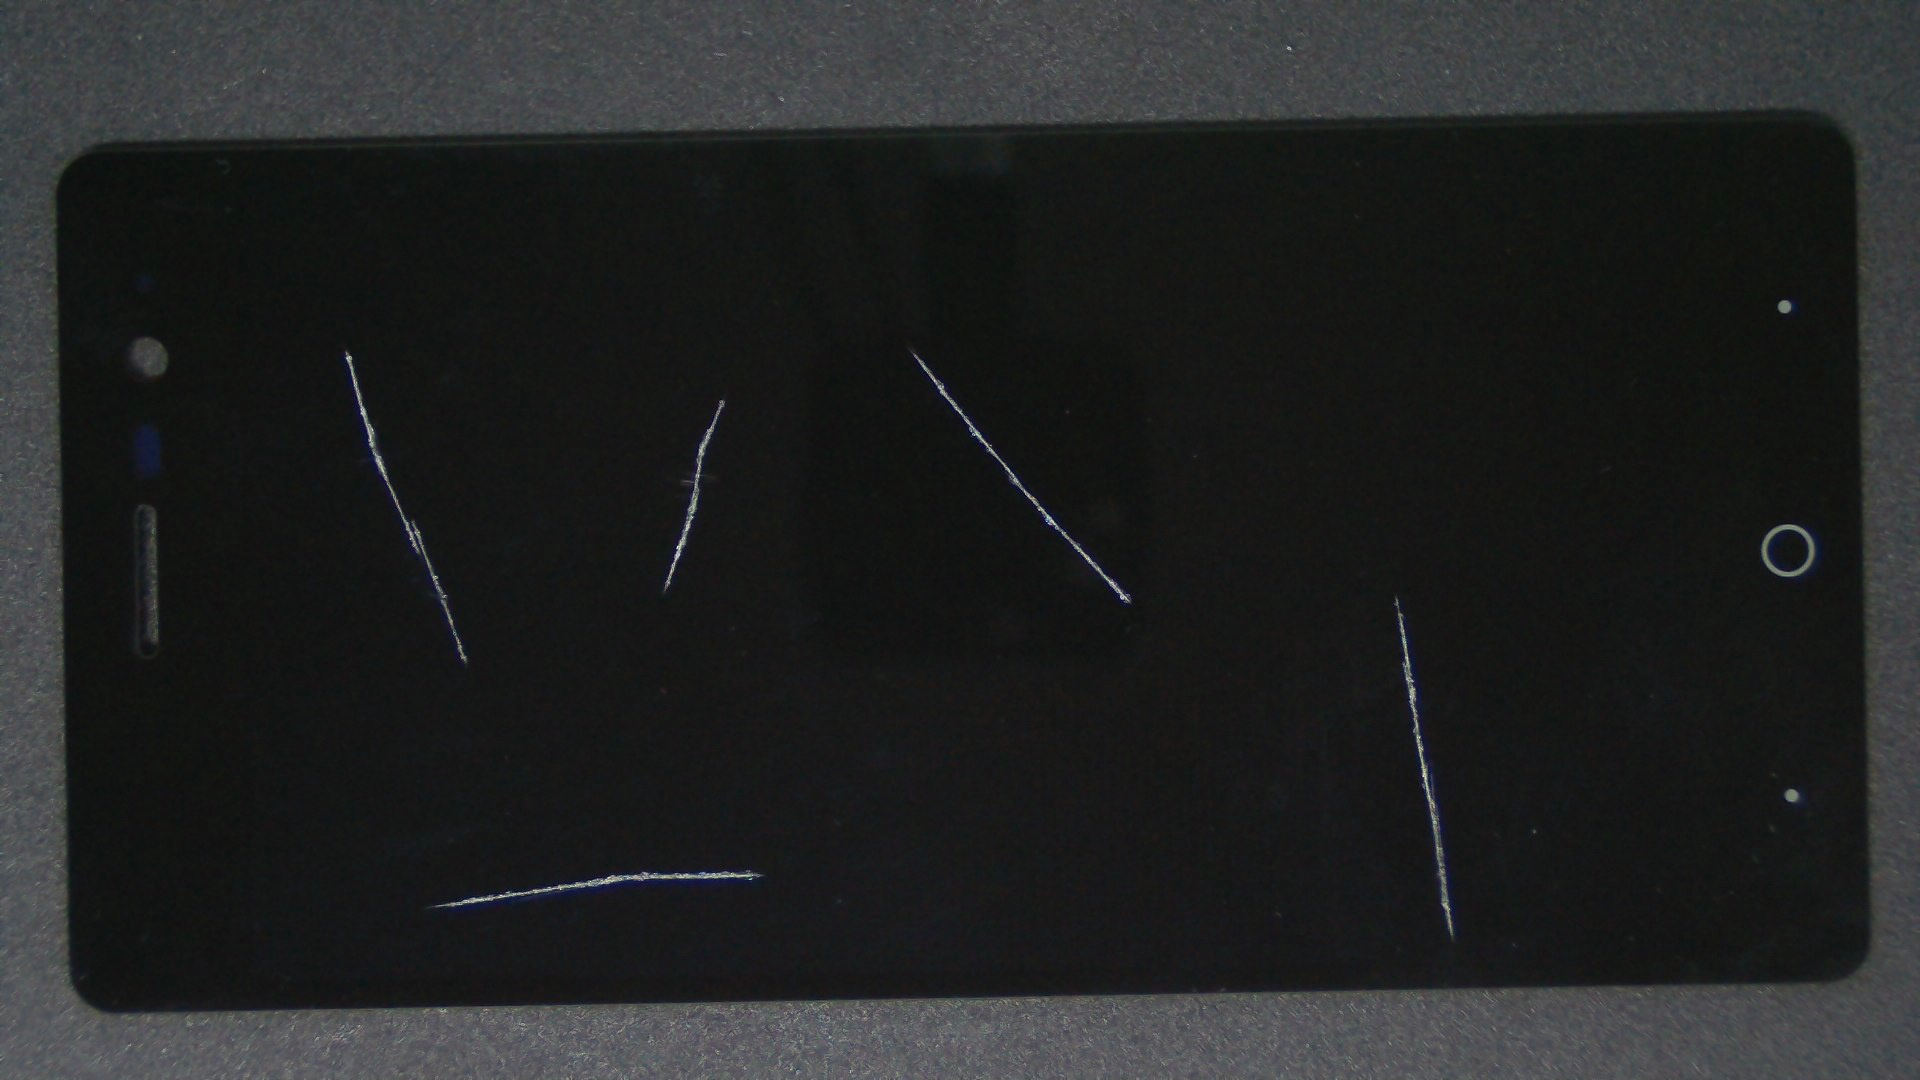oil: (698, 294, 1920, 894), (376, 434, 1125, 1080), (455, 174, 1364, 525), (361, 199, 1081, 597), (174, 174, 520, 524)
